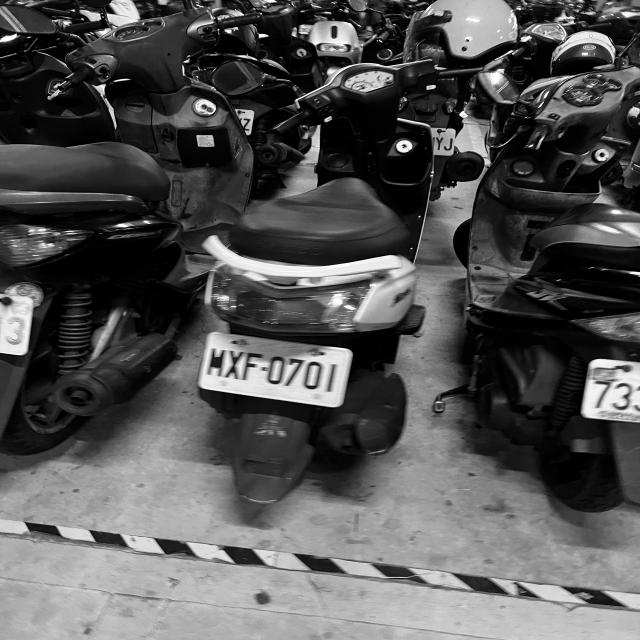-: (261, 366, 269, 372)
0: (304, 357, 325, 391), (267, 352, 283, 387)
1: (327, 361, 342, 396)
3: (4, 316, 28, 349), (611, 381, 631, 412)
7: (286, 356, 304, 386), (595, 378, 612, 408)
F: (243, 350, 262, 383)
M: (206, 345, 224, 377)
X: (226, 348, 242, 380)
plate: (207, 333, 351, 408)
